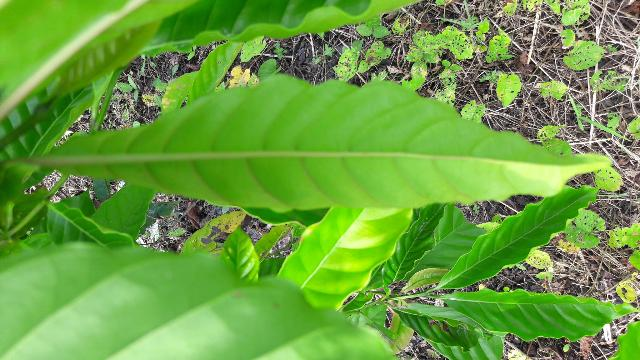healthy: (52, 74, 606, 212)
